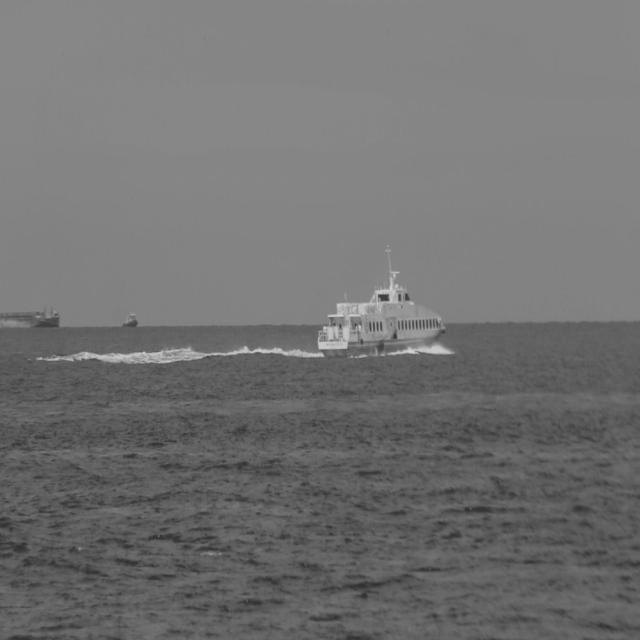ship: (313, 245, 448, 357), (1, 301, 62, 327)
